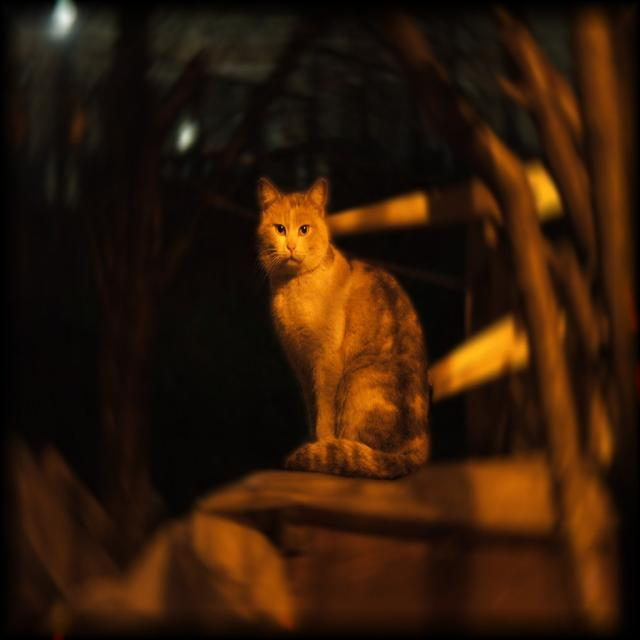Cat: (252, 162, 442, 485)
